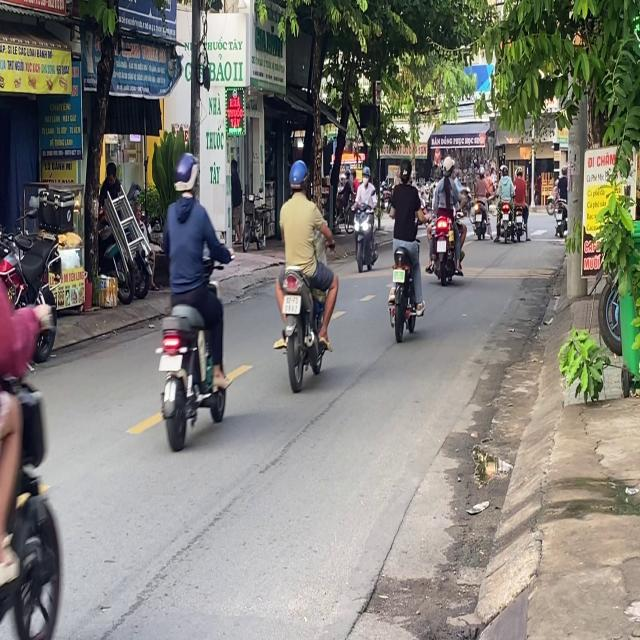helmet: (172, 151, 198, 197), (288, 158, 308, 194)
licenseplate: (153, 150, 230, 448), (272, 157, 338, 390), (385, 153, 425, 341)
motorcyclist: (398, 156, 413, 188)
nohelmet: (160, 353, 181, 371), (282, 294, 300, 313), (392, 268, 405, 282)
